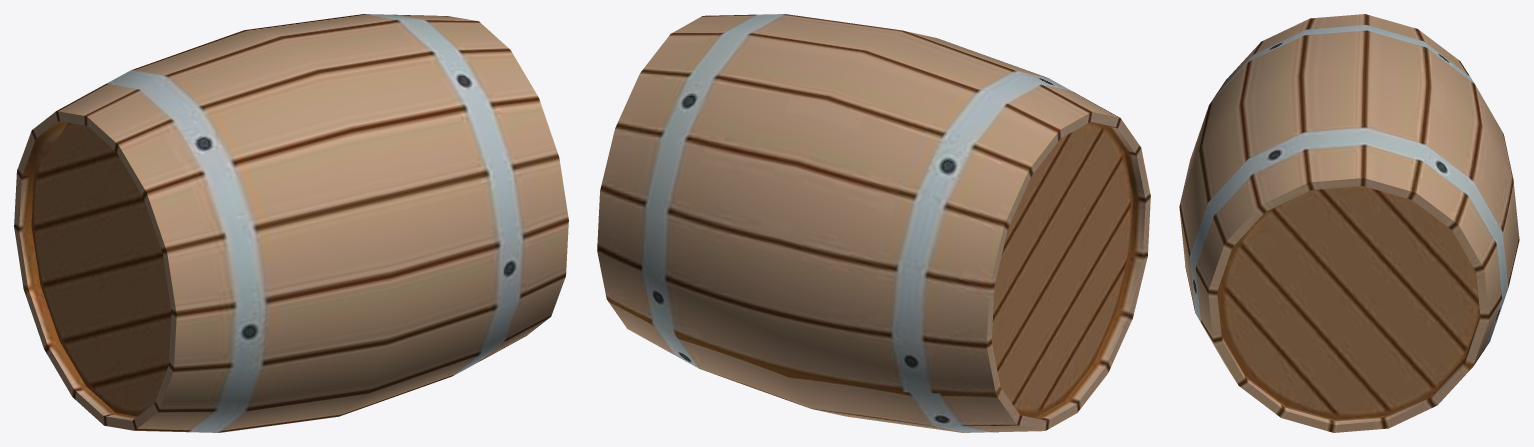
Rendered from barrel moving.fbx.
3 views of the same model, side by side, from view 1: azimuth 30°, elevation 25°; view 2: azimuth 150°, elevation 25°; view 3: azimuth 270°, elevation 25° (orthographic). The views are drawn at different scales.
Parts seen in each view (by area): view 1: Barrel; view 2: Barrel; view 3: Barrel.
Part boxes in pixels (x1,y1,x2,y2): Barrel: (14, 14, 568, 432); Barrel: (597, 14, 1150, 432); Barrel: (1179, 14, 1519, 432).
Size of the model in its own units: 17.06 by 14.9 by 14.9.
1 material, 1 textured.
